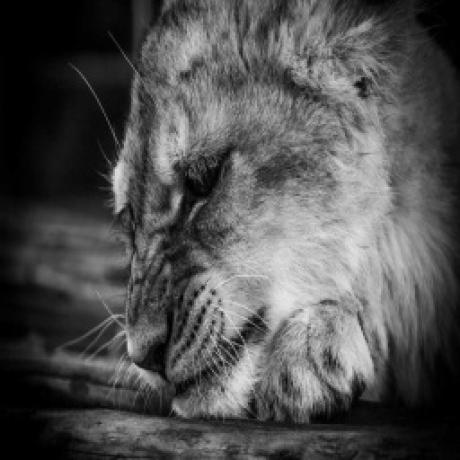Lion: (109, 0, 460, 424)
